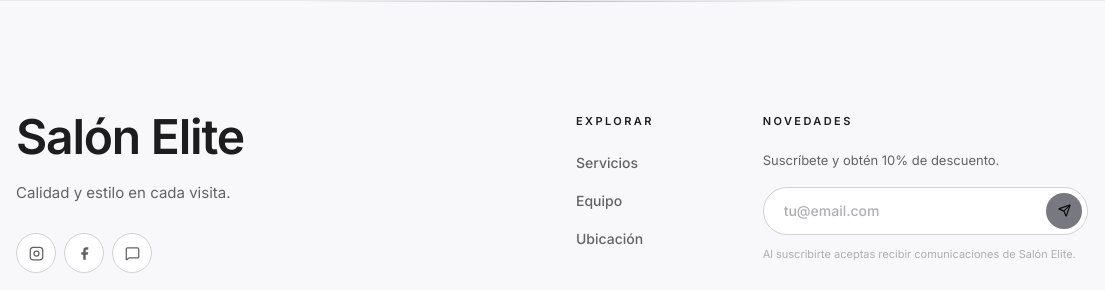
Scenario: LandingContact — newsletter signup (real backend wiring) › shows a confirmation message and hides the form after a successful subscribe
This screenshot has width=1105, height=290.
In the field with placeholder "tu@email.com": (925, 211) left=763, top=187, right=1088, bottom=235, type "cliente@example.com"
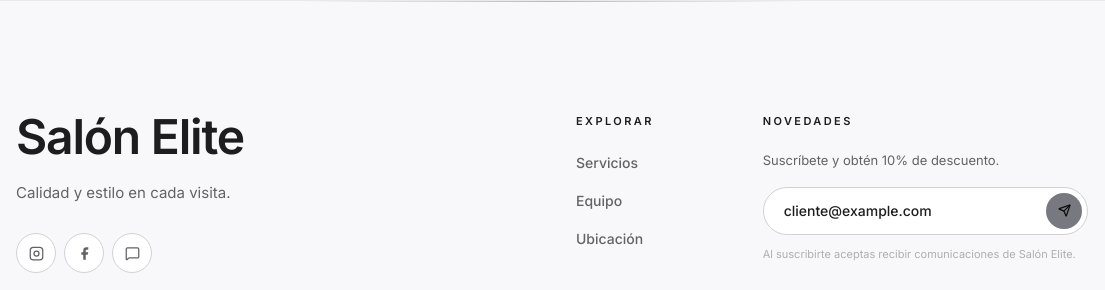
Click the button named "suscribirme": (1064, 211) left=1046, top=193, right=1082, bottom=229
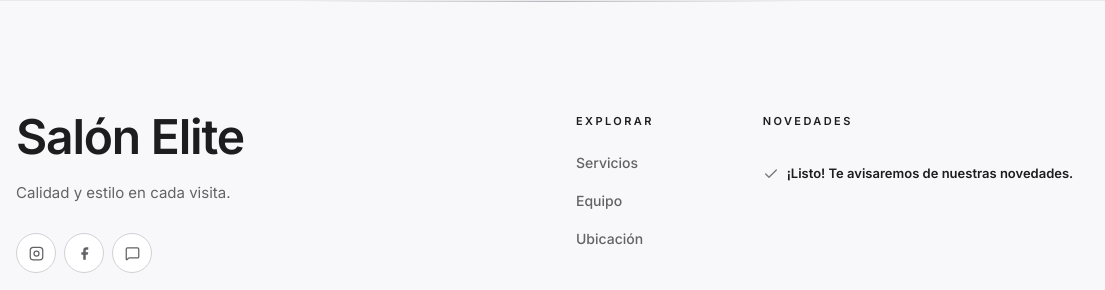
Expected: the field with placeholder "tu@email.com" is not shown
Now the text "¡Listo!" is shown, box left=787, top=165, right=1073, bottom=181
